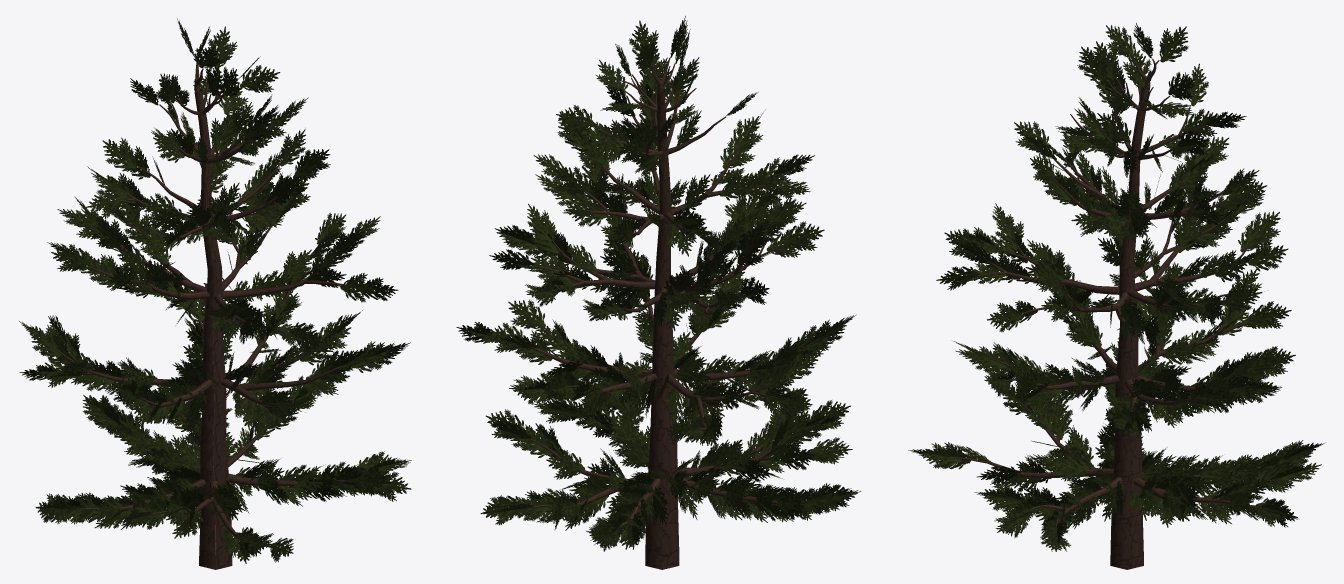
Rendered from Pine.fbx.
The picture shows the model from 3 angles, left to right: view 1: azimuth 30°, elevation 25°; view 2: azimuth 150°, elevation 25°; view 3: azimuth 270°, elevation 25°; orthographic projection. The views are drawn at different scales.
Visible parts, largest first — view 1: PineLeaves_LOD0, Pine_LOD0; view 2: PineLeaves_LOD0, Pine_LOD0; view 3: PineLeaves_LOD0, Pine_LOD0.
Part boxes in pixels (x1,y1,x2,y2): PineLeaves_LOD0: (19, 18, 411, 563); Pine_LOD0: (53, 57, 373, 569); PineLeaves_LOD0: (456, 16, 861, 551); Pine_LOD0: (520, 57, 819, 569); PineLeaves_LOD0: (908, 23, 1325, 551); Pine_LOD0: (951, 58, 1279, 569).
Size of what is drawn, in the model's own units: 734 by 1056 by 752.
